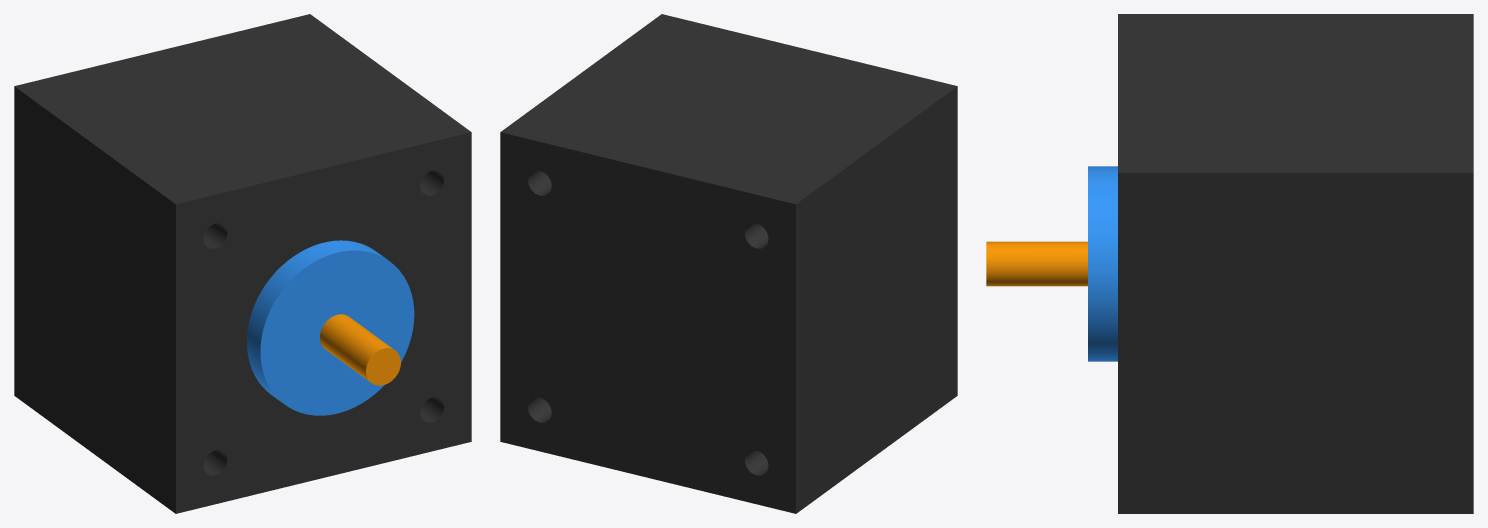
File: assembly.glb
The picture shows the model from 3 angles, left to right: view 1: azimuth 30°, elevation 25°; view 2: azimuth 150°, elevation 25°; view 3: azimuth 270°, elevation 25°; orthographic projection. The views are drawn at different scales.
Parts seen in each view (by area): view 1: NEMA17-stepper-40/body, NEMA17-stepper-40/pilot-boss, NEMA17-stepper-40/shaft; view 2: NEMA17-stepper-40/body; view 3: NEMA17-stepper-40/body, NEMA17-stepper-40/pilot-boss, NEMA17-stepper-40/shaft.
Part boxes in pixels (x1=…): NEMA17-stepper-40/body: x1=14, y1=14, x2=471, y2=513; NEMA17-stepper-40/pilot-boss: x1=247, y1=240, x2=414, y2=415; NEMA17-stepper-40/shaft: x1=320, y1=314, x2=400, y2=385; NEMA17-stepper-40/body: x1=500, y1=14, x2=957, y2=513; NEMA17-stepper-40/body: x1=1118, y1=14, x2=1473, y2=513; NEMA17-stepper-40/pilot-boss: x1=1088, y1=166, x2=1117, y2=361; NEMA17-stepper-40/shaft: x1=986, y1=241, x2=1087, y2=286.
Bounding box in the file's own units: 0.0423 × 0.0423 × 0.0548.
